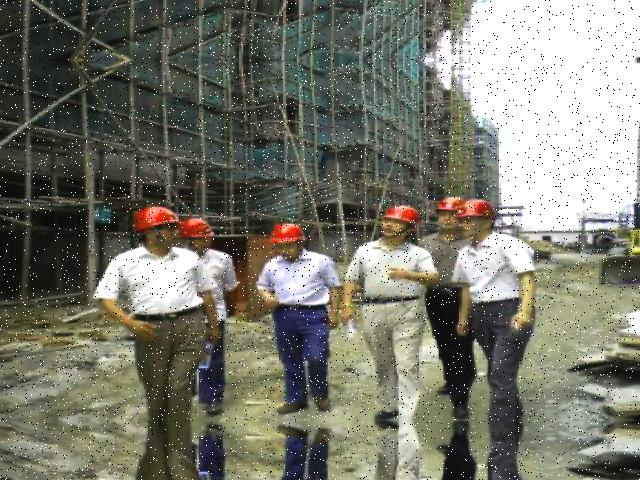Helmet: (128, 201, 186, 238), (267, 219, 314, 247), (380, 202, 425, 229), (456, 197, 499, 223), (181, 212, 218, 241)
